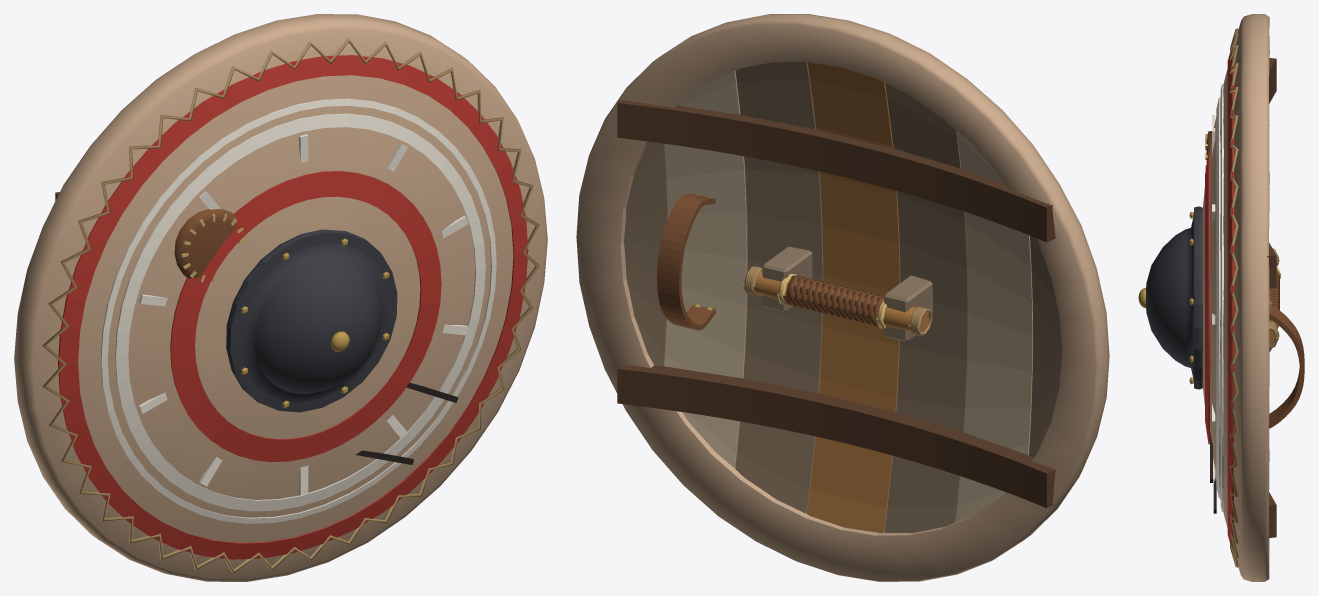
The model's file is tool_shield.fbx.
3 views of the same model, side by side, from view 1: azimuth 30°, elevation 25°; view 2: azimuth 150°, elevation 25°; view 3: azimuth 270°, elevation 25° (orthographic). The views are drawn at different scales.
Parts seen in each view (by area): view 1: Tool_Shield_Hide, Tool_Shield_Paint, Tool_Shield_Boss, Tool_Shield_Lacing, Tool_Shield_Patch; view 2: Tool_Shield_Planks, Tool_Shield_Hide, Tool_Shield_BackFrame, Tool_Shield_GripWrap, Tool_Shield_Strap; view 3: Tool_Shield_Hide, Tool_Shield_Paint, Tool_Shield_Boss, Tool_Shield_Lacing, Tool_Shield_Strap, Tool_Shield_BackFrame, Tool_Shield_GripWrap, Tool_Shield_Patch.
Boxes of the visible parts, x1=… form: Tool_Shield_Hide: x1=14, y1=14, x2=547, y2=581; Tool_Shield_Paint: x1=58, y1=55, x2=528, y2=559; Tool_Shield_Boss: x1=226, y1=229, x2=397, y2=412; Tool_Shield_Lacing: x1=42, y1=38, x2=539, y2=573; Tool_Shield_Patch: x1=174, y1=208, x2=458, y2=464; Tool_Shield_Planks: x1=624, y1=62, x2=1062, y2=532; Tool_Shield_Hide: x1=576, y1=14, x2=1109, y2=581; Tool_Shield_BackFrame: x1=617, y1=99, x2=1055, y2=507; Tool_Shield_GripWrap: x1=742, y1=266, x2=932, y2=335; Tool_Shield_Strap: x1=657, y1=194, x2=715, y2=330; Tool_Shield_Hide: x1=1202, y1=14, x2=1269, y2=581; Tool_Shield_Paint: x1=1205, y1=49, x2=1234, y2=545; Tool_Shield_Boss: x1=1138, y1=206, x2=1202, y2=389; Tool_Shield_Lacing: x1=1230, y1=28, x2=1238, y2=567; Tool_Shield_Strap: x1=1269, y1=304, x2=1304, y2=428; Tool_Shield_BackFrame: x1=1267, y1=58, x2=1277, y2=538; Tool_Shield_GripWrap: x1=1269, y1=248, x2=1281, y2=348; Tool_Shield_Patch: x1=1205, y1=131, x2=1216, y2=513.
Size of the model in its own units: 95 by 95 by 27.79.
